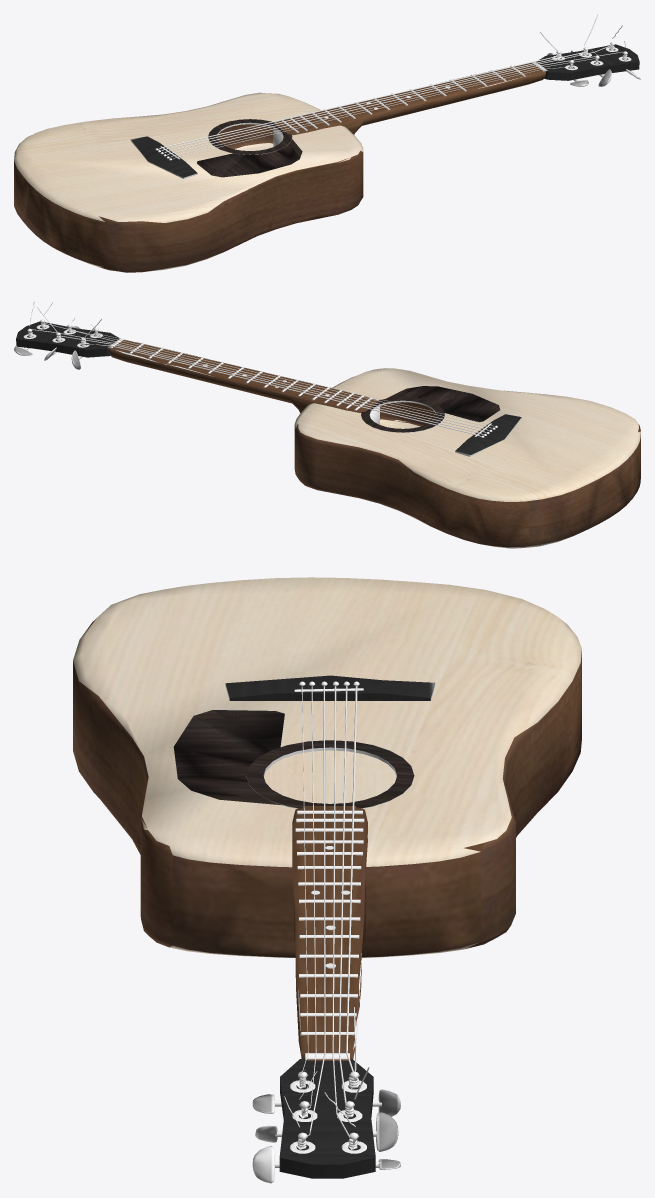
Rendered from 吉他(reduce).fbx.
3 renders of one model, top to bottom at view 1: azimuth 30°, elevation 25°; view 2: azimuth 150°, elevation 25°; view 3: azimuth 270°, elevation 25°, orthographic. The views are drawn at different scales.
Parts seen in each view (by area): view 1: Box01, Box05, Box03, Line01, Box02, Box04, Tube01, Cylinder29, Cylinder31, Cylinder30, Cylinder32, Cylinder33 (+1 smaller); view 2: Box01, Box05, Box03, Box02, Line01, Box04, Tube01, Cylinder29, Cylinder31, Cylinder30, Cylinder32, Cylinder33 (+1 smaller); view 3: Box01, Box05, Box03, Line01, Box04, Tube01, Cylinder29, Cylinder32, Cylinder31, Cylinder30, Box02.
Boxes of the visible parts, bbox=[...] form: Box01: bbox=[14, 92, 363, 272]; Box05: bbox=[275, 63, 547, 135]; Box03: bbox=[536, 44, 639, 80]; Line01: bbox=[197, 139, 302, 177]; Box02: bbox=[273, 71, 546, 146]; Box04: bbox=[130, 136, 197, 178]; Tube01: bbox=[208, 119, 292, 154]; Cylinder29: bbox=[159, 56, 556, 149]; Cylinder31: bbox=[164, 44, 614, 152]; Cylinder30: bbox=[161, 51, 587, 150]; Cylinder32: bbox=[167, 51, 623, 155]; Cylinder33: bbox=[170, 58, 595, 157]; Box01: bbox=[294, 368, 640, 548]; Box05: bbox=[107, 340, 377, 412]; Box03: bbox=[16, 321, 119, 357]; Box02: bbox=[108, 348, 379, 424]; Line01: bbox=[386, 386, 500, 421]; Box04: bbox=[455, 414, 521, 456]; Tube01: bbox=[361, 397, 444, 432]; Cylinder29: bbox=[82, 344, 480, 436]; Cylinder31: bbox=[32, 329, 485, 432]; Cylinder30: bbox=[61, 336, 483, 434]; Cylinder32: bbox=[41, 322, 488, 430]; Cylinder33: bbox=[67, 328, 491, 428]; Box01: bbox=[73, 577, 581, 957]; Box05: bbox=[292, 806, 367, 1060]; Box03: bbox=[279, 1058, 375, 1178]; Line01: bbox=[173, 710, 284, 805]; Box04: bbox=[225, 675, 435, 700]; Tube01: bbox=[246, 740, 414, 808]; Cylinder29: bbox=[346, 686, 357, 1071]; Cylinder32: bbox=[307, 686, 325, 1135]; Cylinder31: bbox=[332, 686, 349, 1137]; Cylinder30: bbox=[338, 686, 347, 1110]; Box02: bbox=[292, 806, 367, 1060].
Bounding box in the file's own units: 1008 × 132 × 375.
1 material, 1 textured.
